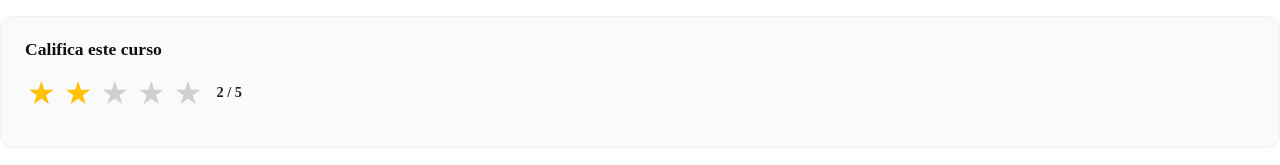
Test: RatingSection › Hover › actualiza el label al hacer hover
Check: the text "2 / 5" is shown, box [216,85,242,100]
Hover over the button named "Calificar con 4 estrellas" at (151, 93), box [135,75,168,111]
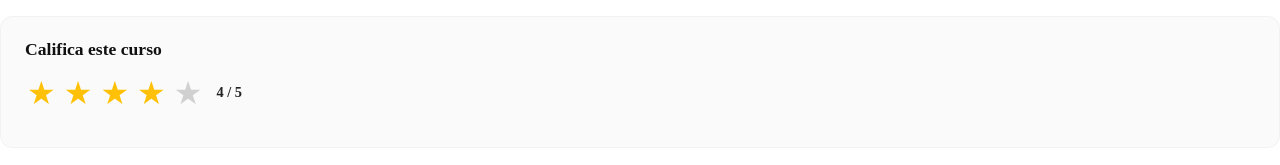
Check: the text "4 / 5" is shown, box [216,85,242,100]
Move the pointer off the button named "Calificar con 4 estrellas", box [135,75,168,111]
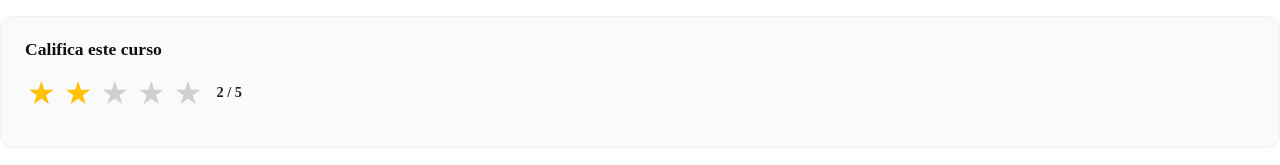
Check: the text "2 / 5" is shown, box [216,85,242,100]
